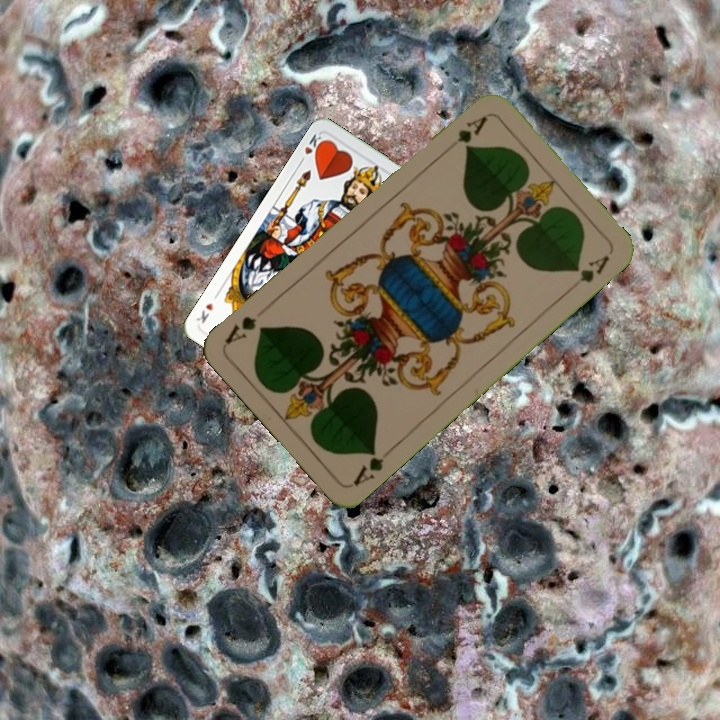GA: (348, 443, 396, 489), (453, 112, 490, 150)
HK: (295, 130, 327, 166)
